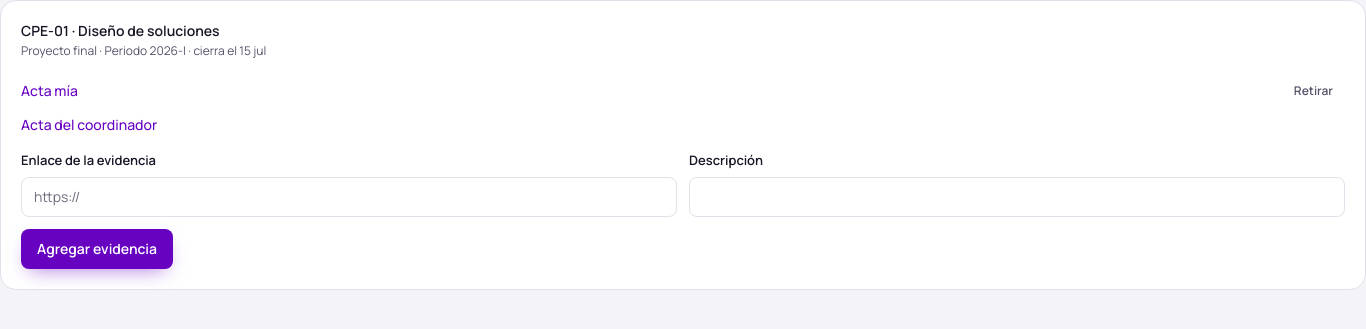
Test case: TarjetaEvaluacion — agregar › con un campo vacío no envía y lo dice junto al campo
In the field labelled "Descripción": (1017, 196) top-left (689, 176), bottom-right (1345, 216), type "Solo descripción"
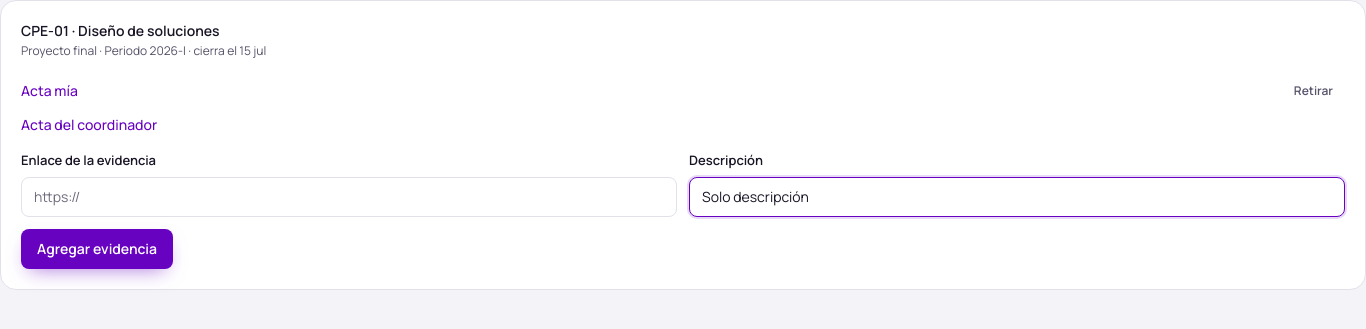
Click the button "Agregar evidencia": (97, 248) top-left (21, 228), bottom-right (173, 268)
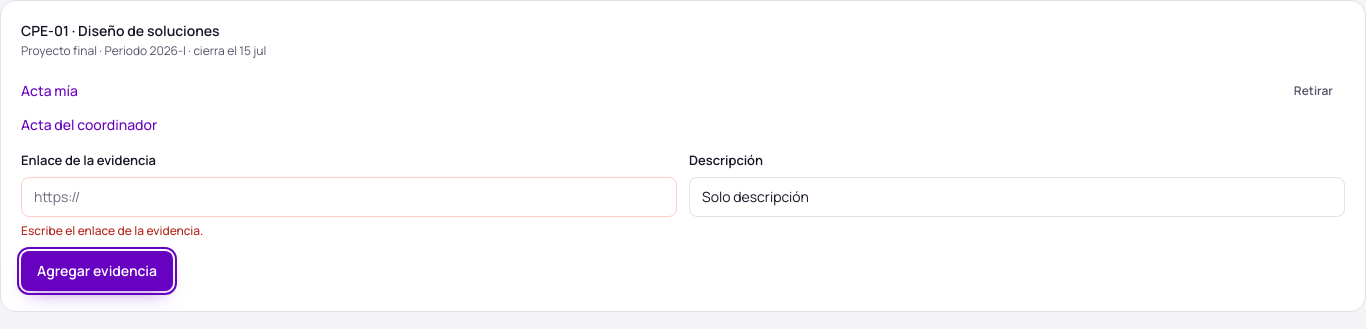
Now the text "Escribe el enlace de la evidencia." is shown, box top-left (21, 222), bottom-right (203, 238)
